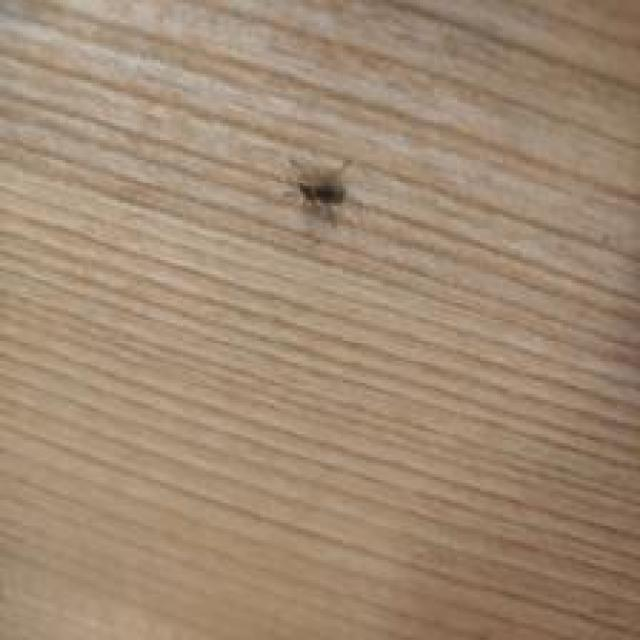Culex: (284, 154, 356, 223)
